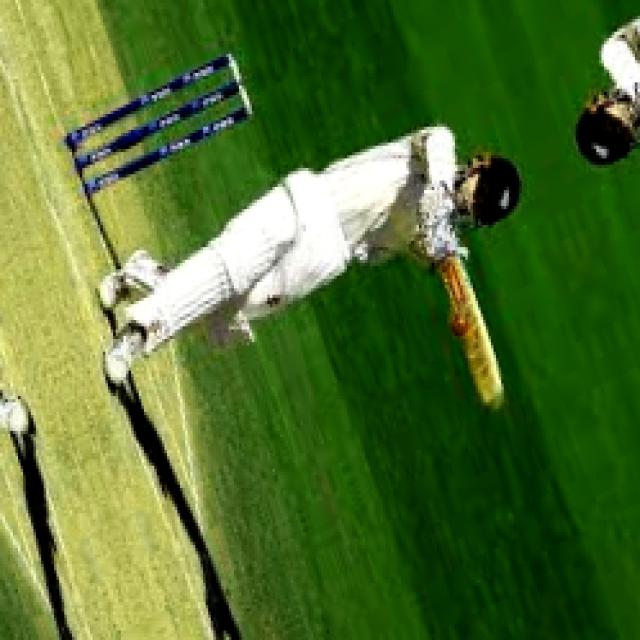toe: (473, 377, 513, 419)
